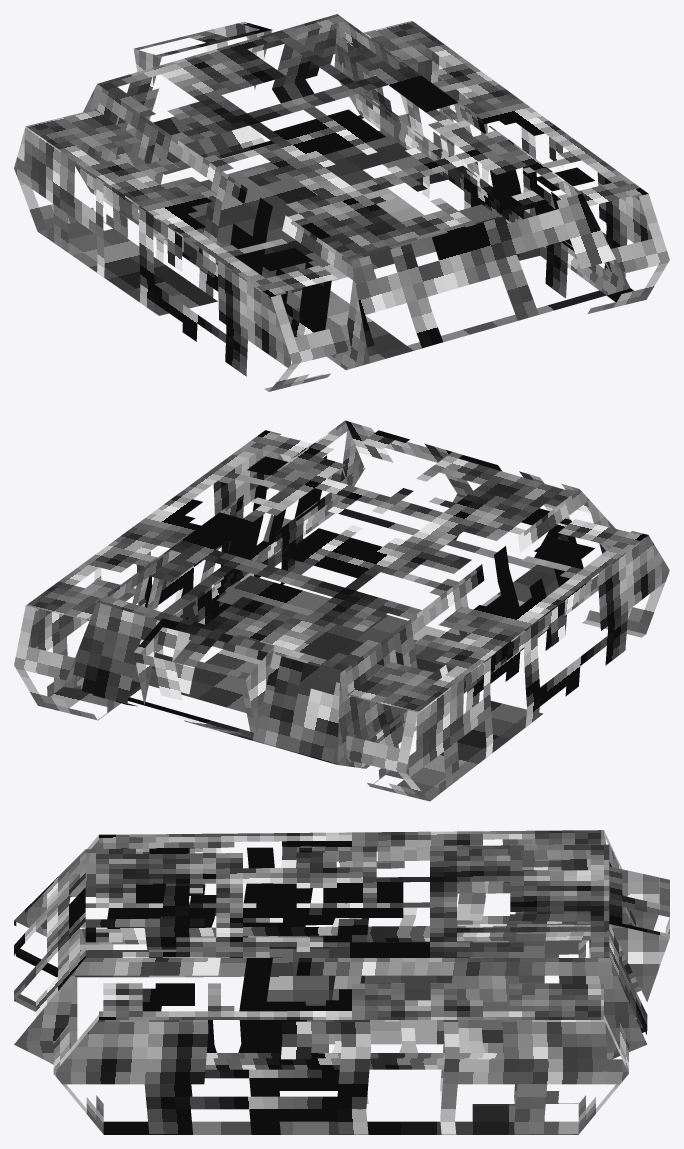
Rendered from partisan_wreck.glb.
The picture shows the model from 3 angles, top to bottom: view 1: azimuth 30°, elevation 25°; view 2: azimuth 150°, elevation 25°; view 3: azimuth 270°, elevation 25°; orthographic projection. The views are drawn at different scales.
Visible parts, largest first — view 1: Partisan Body; view 2: Partisan Body; view 3: Partisan Body.
Boxes of the visible parts, <box> form: Partisan Body: <box>14,14,669,391</box>; Partisan Body: <box>14,420,669,801</box>; Partisan Body: <box>14,830,669,1134</box>.
Bounding box in the file's own units: 7.23 × 2.33 × 9.94.
Materials: 1 (1 with a texture image).
